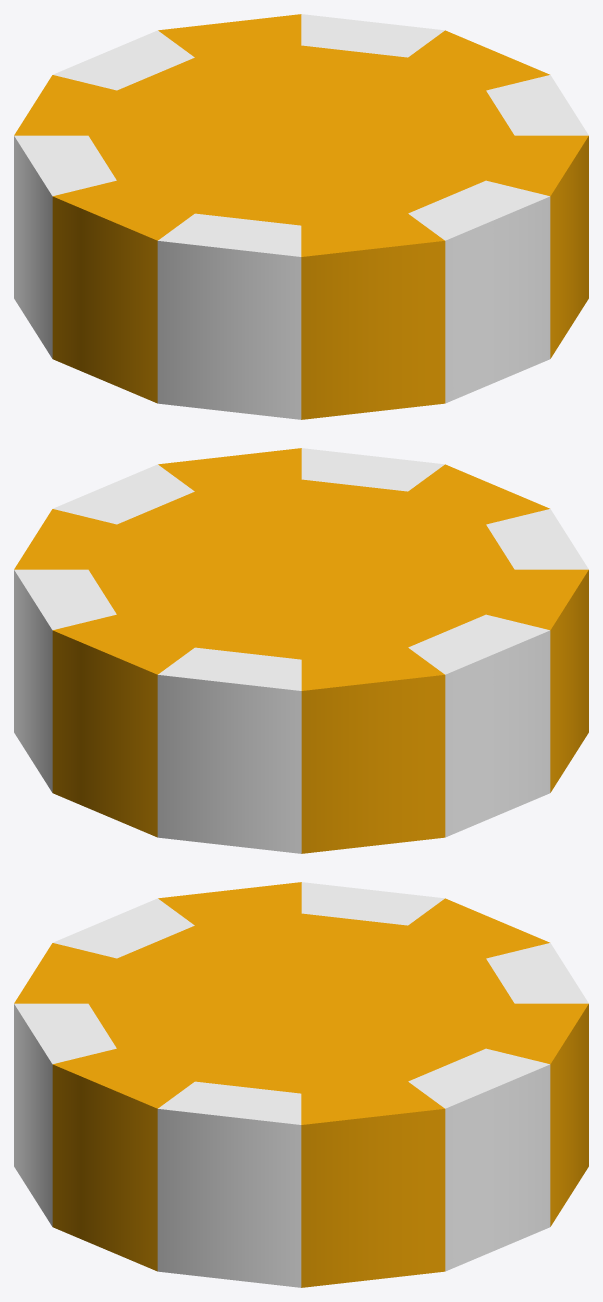
Rendered from Poker Chip Yellow.FBX.
3 renders of one model, top to bottom at view 1: azimuth 30°, elevation 25°; view 2: azimuth 150°, elevation 25°; view 3: azimuth 270°, elevation 25°, orthographic.
Parts seen in each view (by area): view 1: Poker Chip Yellow; view 2: Poker Chip Yellow; view 3: Poker Chip Yellow.
Boxes of the visible parts, x1=… form: Poker Chip Yellow: x1=14, y1=14, x2=588, y2=419; Poker Chip Yellow: x1=14, y1=448, x2=588, y2=853; Poker Chip Yellow: x1=14, y1=882, x2=588, y2=1287.
Size of the model in its own units: 0.016 by 0.005 by 0.016.
